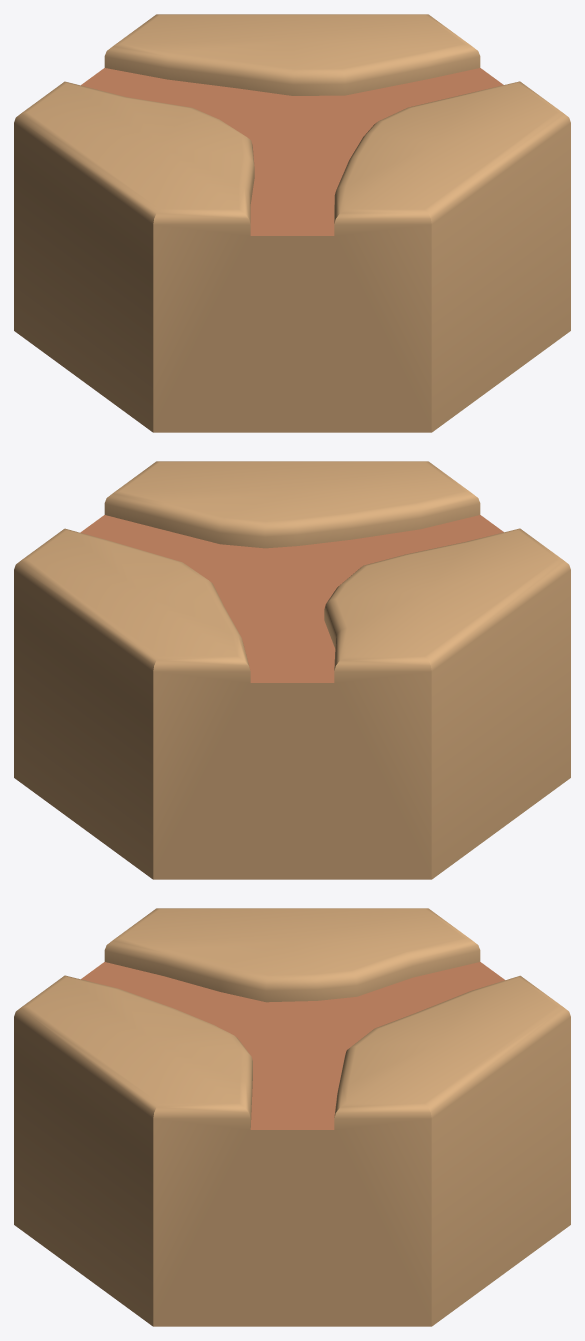
Rendered from hex_sand_roadG.glb.
The picture shows the model from 3 angles, top to bottom: view 1: azimuth 30°, elevation 25°; view 2: azimuth 150°, elevation 25°; view 3: azimuth 270°, elevation 25°; orthographic projection.
Parts seen in each view (by area): view 1: hex_sand_roadG; view 2: hex_sand_roadG; view 3: hex_sand_roadG.
Part boxes in pixels (left/top/right/bottom): hex_sand_roadG: left=14, top=14, right=570, bottom=432; hex_sand_roadG: left=14, top=461, right=570, bottom=879; hex_sand_roadG: left=14, top=908, right=570, bottom=1326.
Bounding box in the file's own units: 2 × 1 × 2.31.
